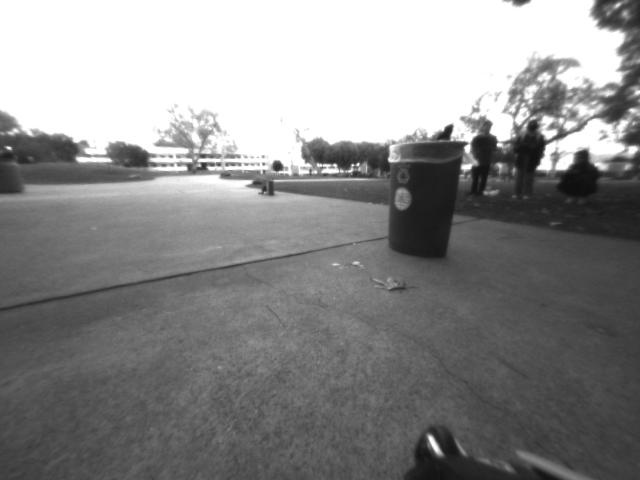trashcan: (380, 132, 472, 257)
